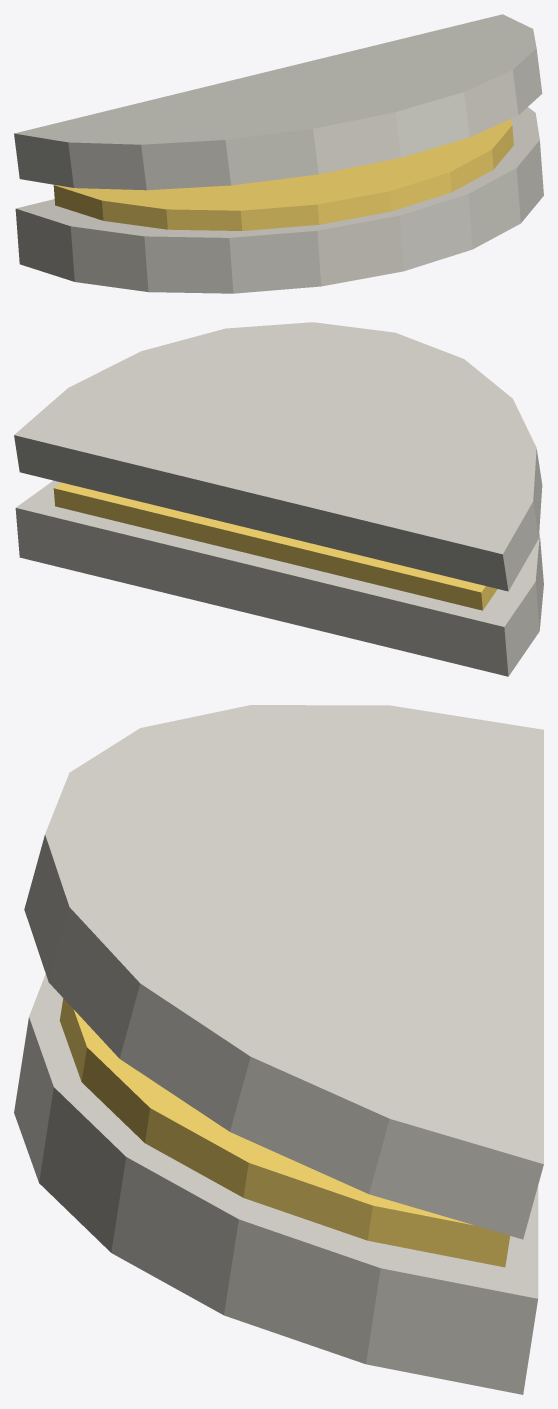
File: tapioca.obj
3 renders of one model, top to bottom at view 1: azimuth 30°, elevation 25°; view 2: azimuth 150°, elevation 25°; view 3: azimuth 270°, elevation 25°, orthographic. The views are drawn at different scales.
Parts seen in each view (by area): view 1: item; view 2: item; view 3: item.
Boxes of the visible parts, box(x1,y1,x2,y2) form: item: box(14, 14, 543, 293); item: box(14, 322, 543, 676); item: box(14, 705, 543, 1394).
Bounding box in the file's own units: 0.48 × 0.1769 × 0.2474.
